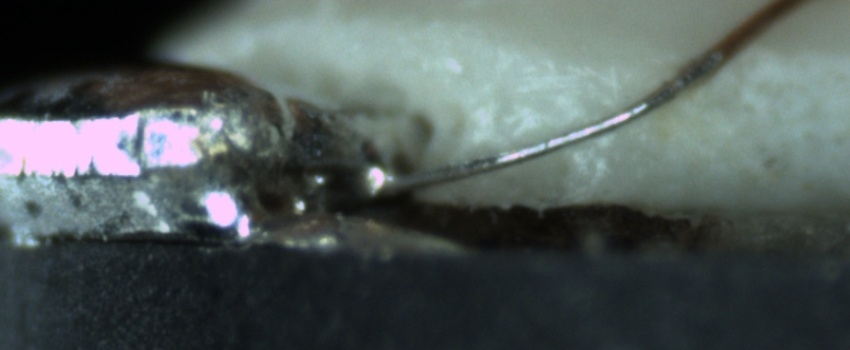DL: (595, 32, 850, 90)
TS: (388, 51, 724, 192)
TTCW: (373, 15, 758, 201)
